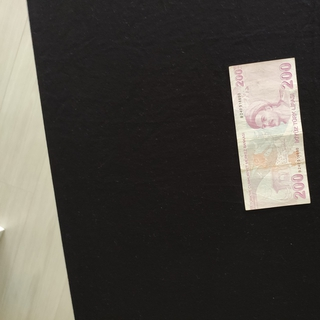200TLBack: (228, 57, 311, 210)
